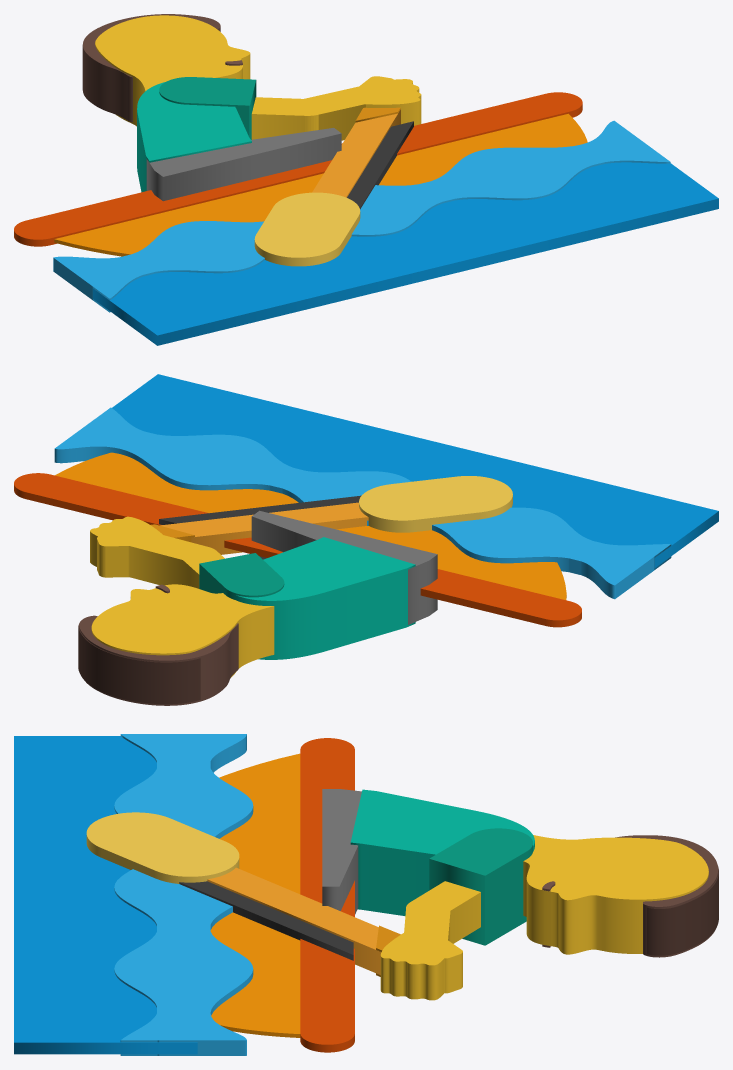
File: emoji_u1f6a3_200d_2642.glb
3 views of the same model, one above another, from view 1: azimuth 30°, elevation 25°; view 2: azimuth 150°, elevation 25°; view 3: azimuth 270°, elevation 25° (orthographic). The views are drawn at different scales.
Visible parts, largest first — view 1: emoji_u1f6a3_200d_2642; view 2: emoji_u1f6a3_200d_2642; view 3: emoji_u1f6a3_200d_2642.
Boxes of the visible parts, x1,y1,x2,y2 form: emoji_u1f6a3_200d_2642: [14, 14, 718, 345]; emoji_u1f6a3_200d_2642: [14, 374, 718, 705]; emoji_u1f6a3_200d_2642: [14, 734, 718, 1055].
Size of the model in its own units: 0.0338 by 0.0036 by 0.0329.
